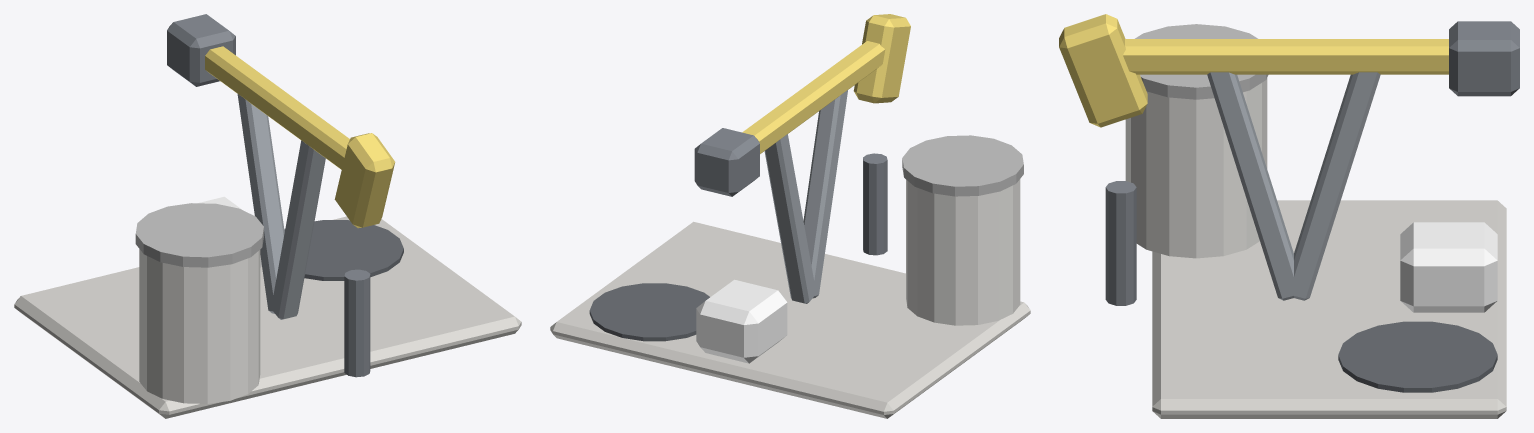
File: pump.glb
The picture shows the model from 3 angles, left to right: view 1: azimuth 30°, elevation 25°; view 2: azimuth 150°, elevation 25°; view 3: azimuth 270°, elevation 25°; orthographic projection. The views are drawn at different scales.
Visible parts, largest first — view 1: main, rocker; view 2: main, rocker; view 3: main, rocker.
Boxes of the visible parts, x1,y1,x2,y2 form: main: (14, 93, 521, 418); rocker: (167, 14, 395, 228); main: (550, 90, 1030, 418); rocker: (694, 14, 910, 196); main: (1105, 24, 1506, 418); rocker: (1059, 14, 1519, 127).
Bounding box in the file's own units: 1.1 × 0.7499 × 1.04.
